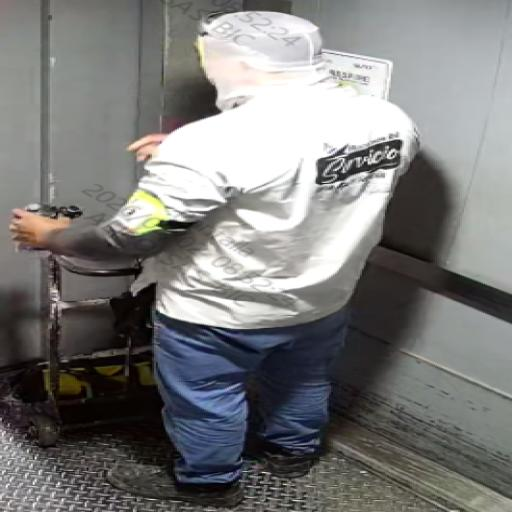persona: (36, 1, 411, 491)
